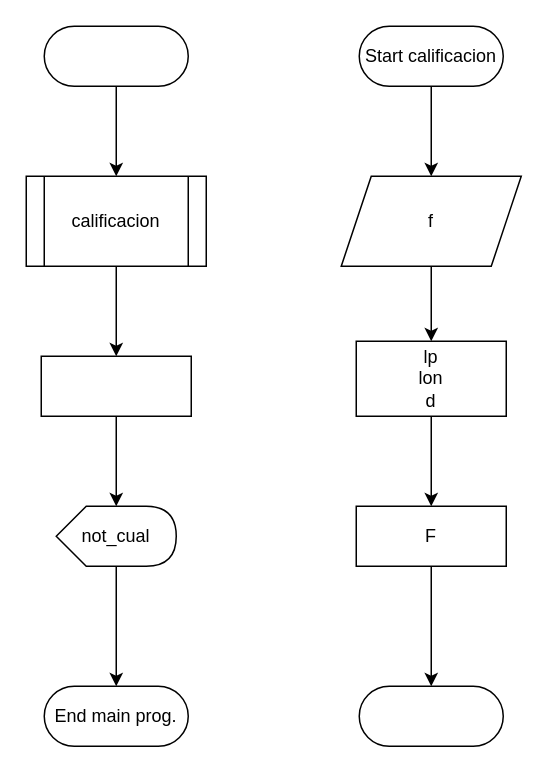
The diagram is 548 pixels wide and 773 high, and some of its shapes have lost their labels. The centre of each missing label's shape, as x and y in pixels:
End calificacion: point (430, 715)
notas not_cual: point (115, 385)
Start main prog.: point (115, 55)
